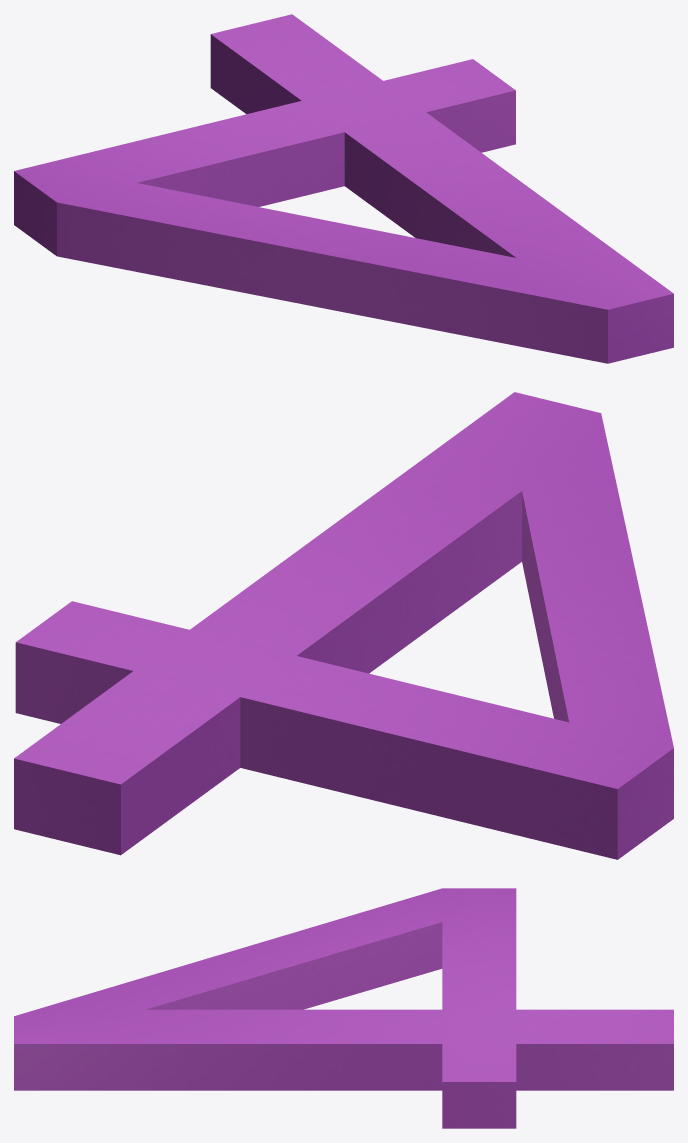
Rendered from four.obj.
3 views of the same model, one above another, from view 1: azimuth 30°, elevation 25°; view 2: azimuth 150°, elevation 25°; view 3: azimuth 270°, elevation 25° (orthographic). The views are drawn at different scales.
Visible parts, largest first — view 1: four; view 2: four; view 3: four.
Part boxes in pixels (box(x1,y1,x2,y2)): four: box(14, 14, 673, 363); four: box(14, 392, 673, 859); four: box(14, 888, 673, 1128).
Size of the model in its own units: 44.5 by 5 by 64.1.
1 material, 1 textured.
